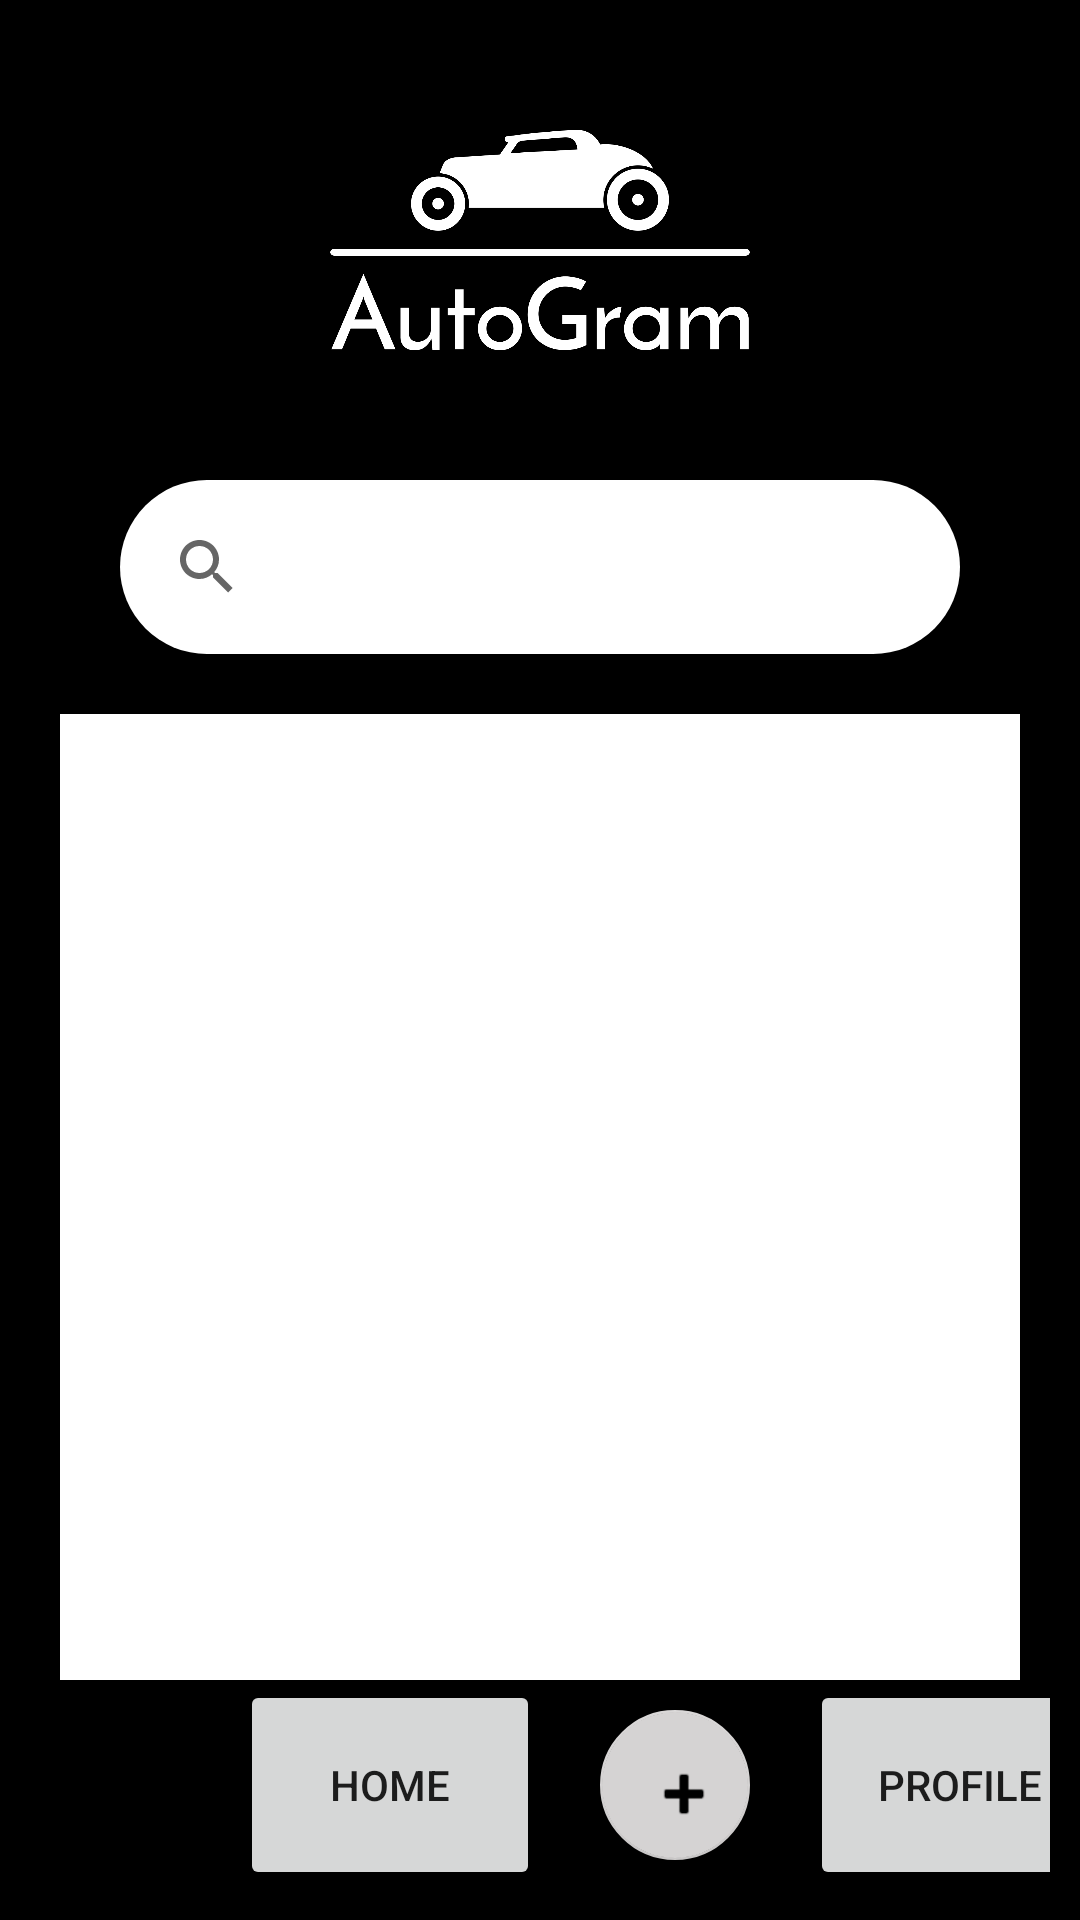

Icons on this 1080px×1920px Android screen, each with the point to tap as point (x, y):
add: point (675, 1785)
